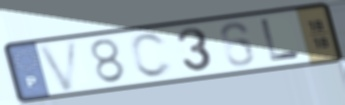3: (175, 26, 214, 74)
6: (219, 20, 257, 69)
8: (88, 37, 127, 85)
C: (128, 31, 176, 80)
L: (258, 18, 303, 64)
V: (35, 38, 82, 94)
